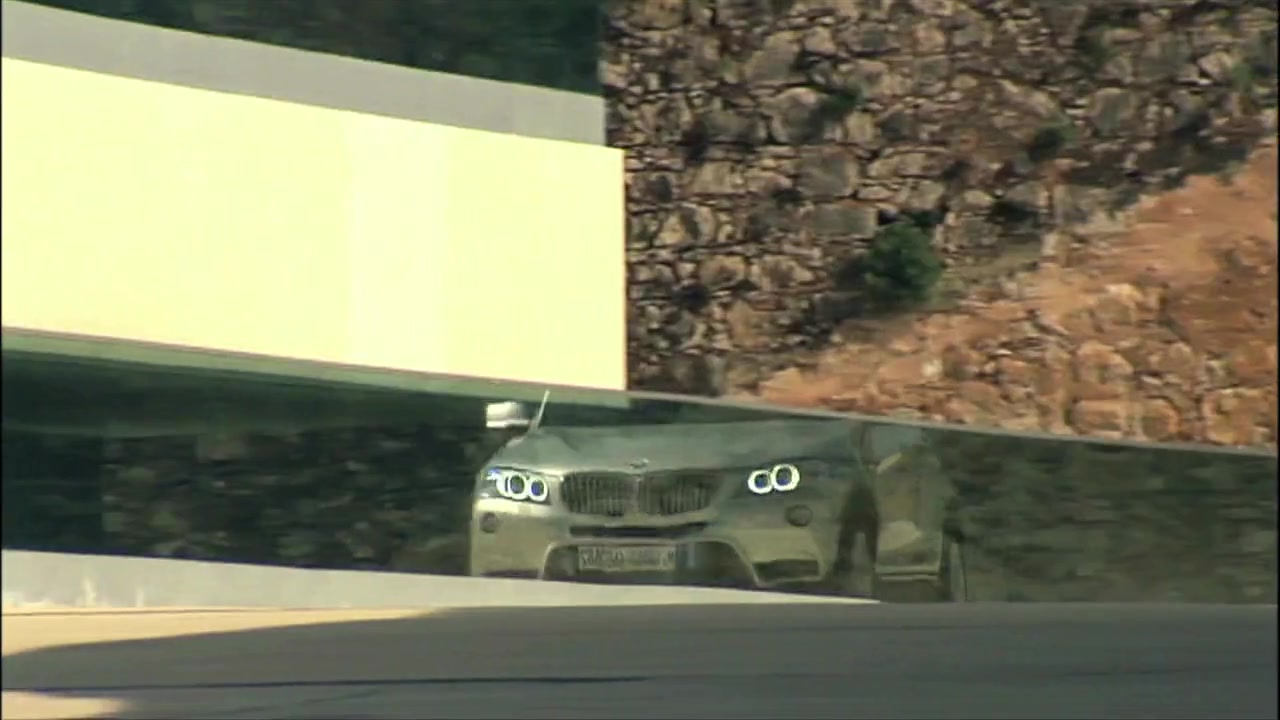car: (466, 392, 971, 600)
